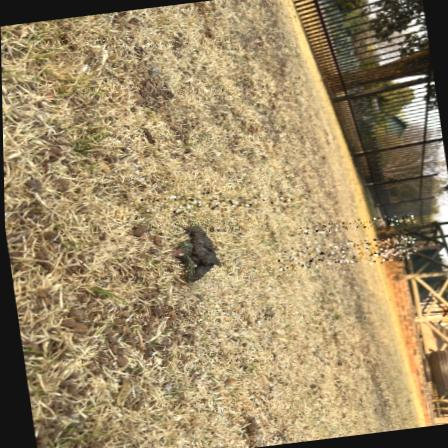dog-poop: (163, 223, 223, 282)
